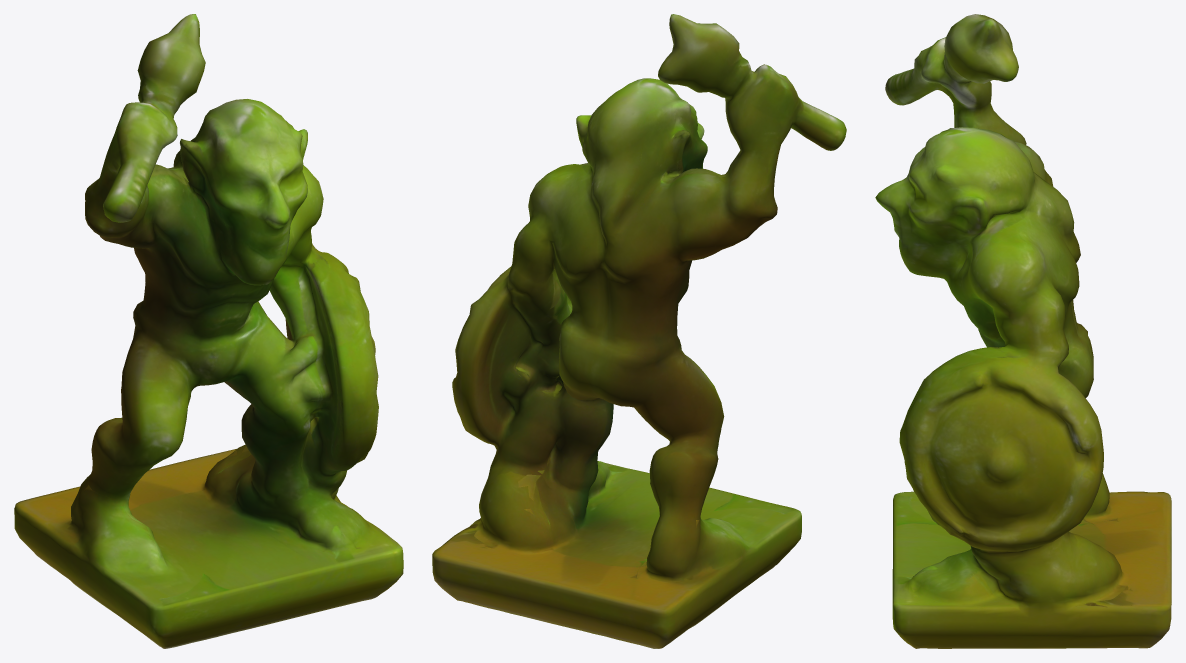
File: goblin.glb
3 views of the same model, side by side, from view 1: azimuth 30°, elevation 25°; view 2: azimuth 150°, elevation 25°; view 3: azimuth 270°, elevation 25° (orthographic). The views are drawn at different scales.
Visible parts, largest first — view 1: Mesh_0; view 2: Mesh_0; view 3: Mesh_0.
Part boxes in pixels (<box>): Mesh_0: <box>14,14,403,648</box>; Mesh_0: <box>432,14,846,648</box>; Mesh_0: <box>875,14,1171,648</box>.
Bounding box in the file's own units: 1.13 × 1.99 × 0.9521.
1 material, 1 textured.
